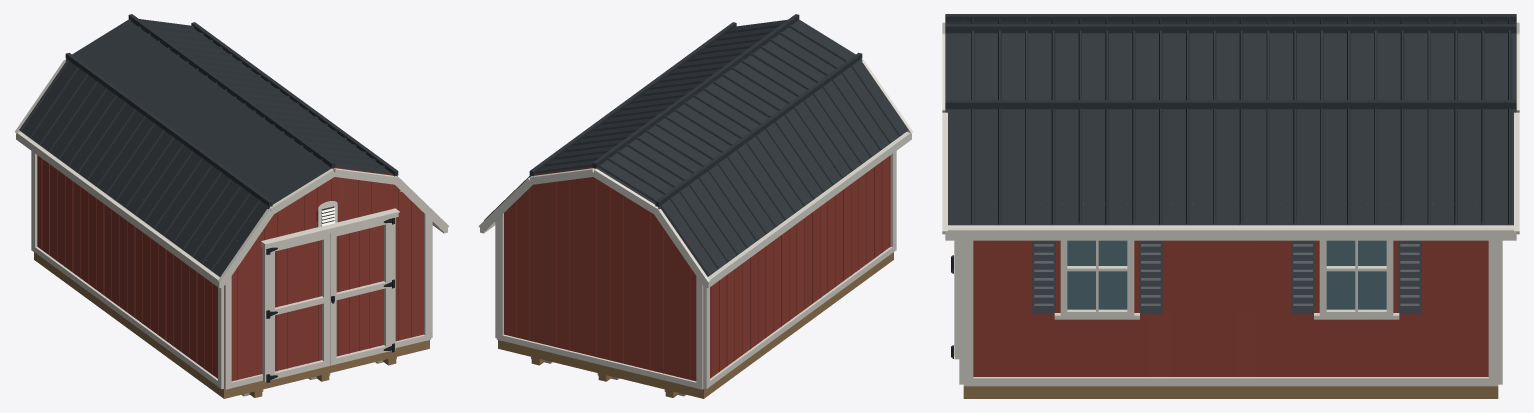
File: 04-basic-lofted-barn-shutters.glb
3 renders of one model, left to right at view 1: azimuth 30°, elevation 25°; view 2: azimuth 150°, elevation 25°; view 3: azimuth 270°, elevation 25°, orthographic. The views are drawn at different scales.
Visible parts, largest first — view 1: Main roof, left wall, front wall double, front wall, Floor platform and skids, front wall vent; view 2: Main roof, rear wall, left wall, Floor platform and skids; view 3: Main roof, right wall, right wall window, Louvered window shutters, Floor platform and skids, front wall double, front wall, rear wall.
Boxes of the visible parts, left/top/right/bottom form: Main roof: left=15, top=14, right=449, bottom=288; left wall: left=31, top=126, right=223, bottom=389; front wall double: left=261, top=208, right=399, bottom=382; front wall: left=224, top=164, right=431, bottom=389; Floor platform and skids: left=34, top=252, right=429, bottom=398; front wall vent: left=318, top=201, right=337, bottom=226; Main roof: left=478, top=14, right=912, bottom=288; rear wall: left=496, top=164, right=703, bottom=389; left wall: left=704, top=123, right=896, bottom=389; Floor platform and skids: left=498, top=252, right=893, bottom=398; Main roof: left=942, top=14, right=1519, bottom=240; right wall: left=963, top=203, right=1498, bottom=386; right wall window: left=1054, top=240, right=1399, bottom=319; Louvered window shutters: left=1032, top=240, right=1421, bottom=314; Floor platform and skids: left=963, top=386, right=1498, bottom=398; front wall double: left=951, top=240, right=959, bottom=359; front wall: left=959, top=22, right=963, bottom=384; rear wall: left=1498, top=22, right=1502, bottom=384.
Bounding box in the file's own units: 3.4 × 3.18 × 5.27.
